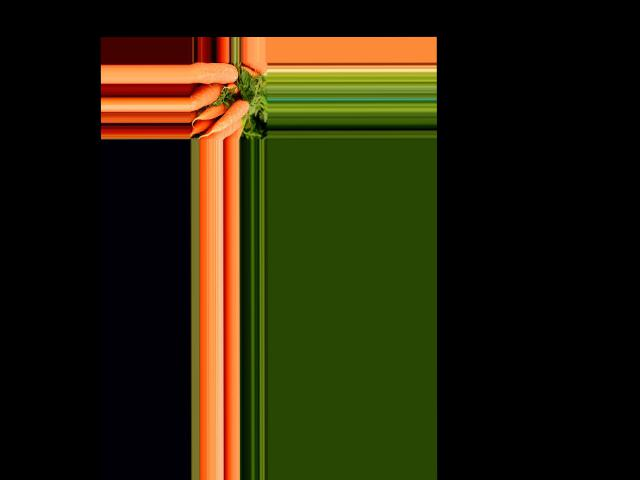carrot: (189, 62, 240, 86)
